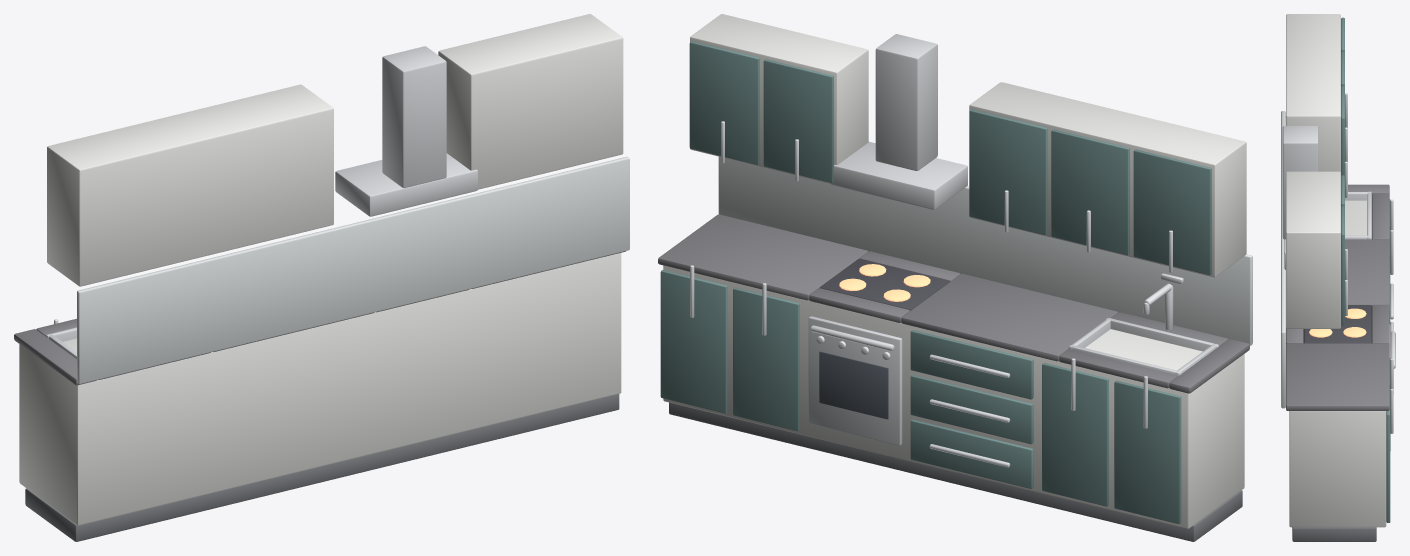
File: th11_kuechenzeile.glb
3 views of the same model, side by side, from view 1: azimuth 30°, elevation 25°; view 2: azimuth 150°, elevation 25°; view 3: azimuth 270°, elevation 25° (orthographic). The views are drawn at different scales.
Parts seen in each view (by area): view 1: Cube.001, Cube.002, Cube.026, Cube.030, Cube, Cube.035, Cube.033, Cube.003; view 2: Cube.002, Cube.001, Cube.026, Cube.004, Cube.005, Cube.030, Cube.019, Cube.022, Cube.021, Cube.020, Cube.029, Cube.028 (+18 smaller); view 3: Cube.001, Cube.030, Cube.026, Cube.005, Cube.004, Cube.035, Cube, Cube.016, Cube.002, Cube.007, Cube.009, Cube.022 (+12 smaller).
Boxes of the visible parts, x1,y1,x2,y2 form: Cube.001: (19,253,621,525); Cube.002: (77,156,629,383); Cube.026: (47,84,333,286); Cube.030: (438,14,623,189); Cube: (25,394,619,541); Cube.035: (382,46,446,188); Cube.033: (335,153,477,216); Cube.003: (14,329,96,385); Cube.002: (718,156,1252,345); Cube.001: (663,265,1244,528); Cube.026: (969,82,1246,277); Cube.004: (901,273,1118,361); Cube.005: (658,214,868,300); Cube.030: (690,14,868,183); Cube.019: (1114,380,1181,524); Cube.022: (660,270,727,413); Cube.021: (733,287,799,431); Cube.020: (1042,363,1108,506); Cube.029: (969,109,1047,235); Cube.028: (1051,129,1129,255); Cube.001: (1289,200,1386,527); Cube.030: (1286,171,1340,328); Cube.026: (1286,14,1340,172); Cube.005: (1286,343,1389,410); Cube.004: (1345,239,1389,305); Cube.035: (1282,126,1318,239); Cube: (1292,527,1376,541); Cube.016: (1303,305,1371,343); Cube.002: (1281,111,1285,408); Cube.007: (1372,193,1389,239); Cube.009: (1372,305,1389,344); Cube.022: (1386,388,1390,522).
Size of the model in its own units: 3.24 by 2.23 by 0.708.
